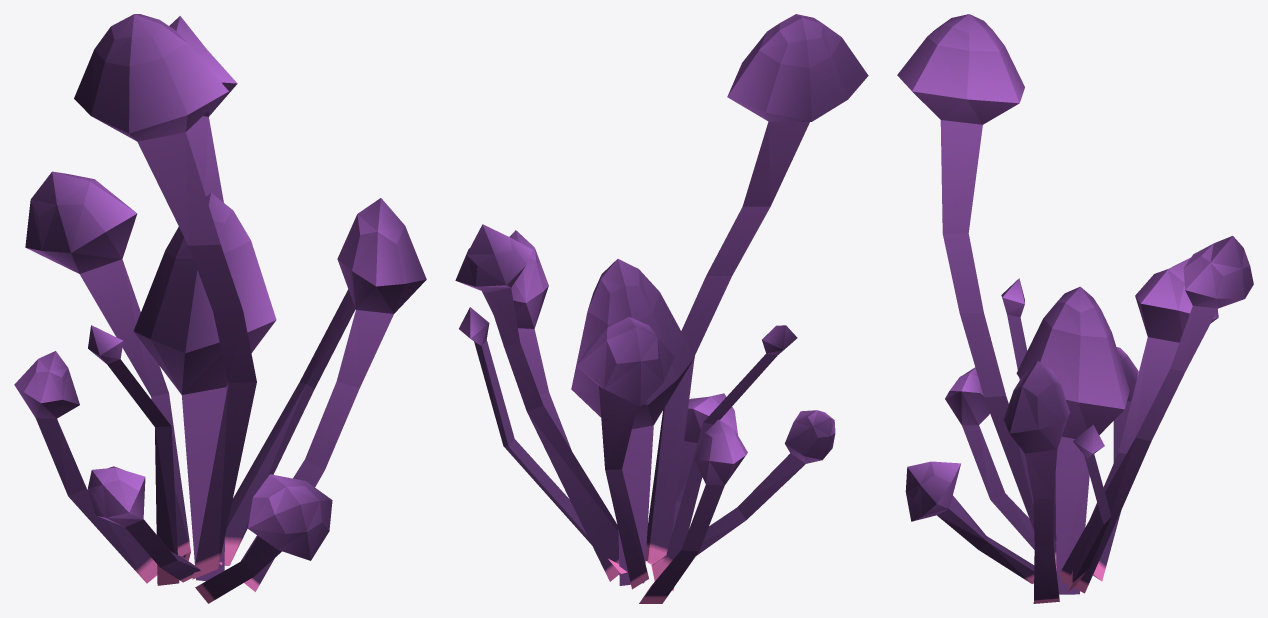
The model's file is ZLP_Mushroom_A_6.FBX.
3 views of the same model, side by side, from view 1: azimuth 30°, elevation 25°; view 2: azimuth 150°, elevation 25°; view 3: azimuth 270°, elevation 25° (orthographic). The views are drawn at different scales.
Parts seen in each view (by area): view 1: ZLP_Mushroom_A_6; view 2: ZLP_Mushroom_A_6; view 3: ZLP_Mushroom_A_6.
Part boxes in pixels (box(x1,y1,x2,y2)): ZLP_Mushroom_A_6: box(14, 14, 426, 603); ZLP_Mushroom_A_6: box(455, 14, 868, 603); ZLP_Mushroom_A_6: box(897, 14, 1253, 603).
Size of the model in its own units: 62.26 by 104 by 63.84.
